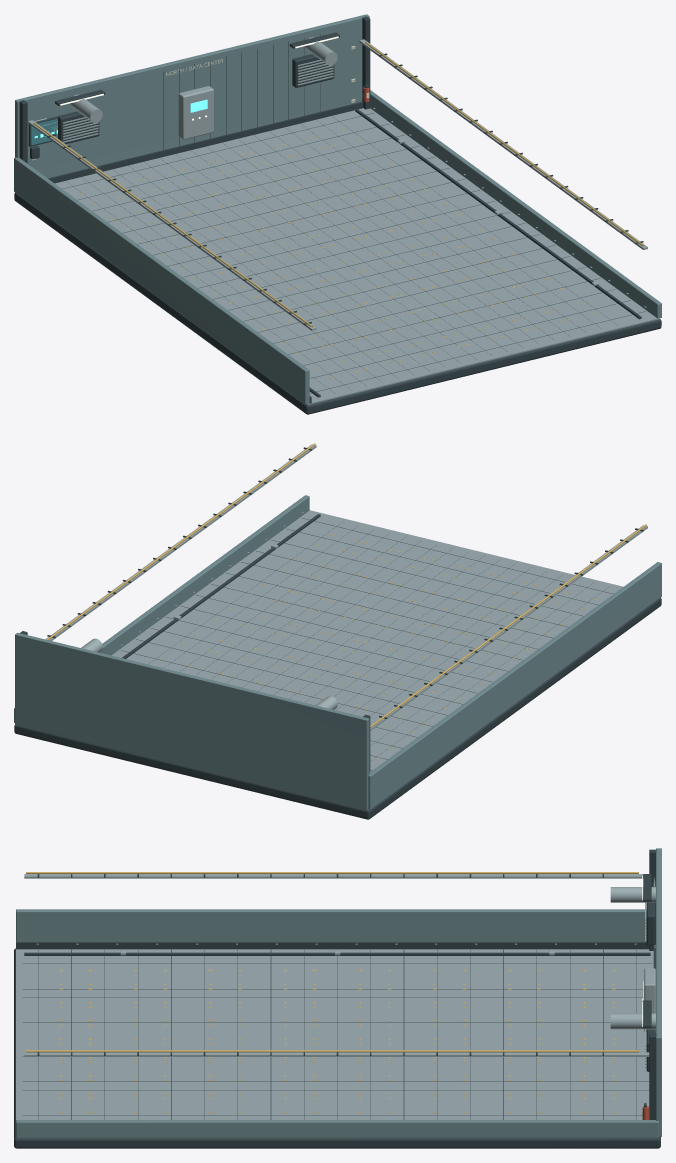
Rendered from dc-north.glb.
3 views of the same model, one above another, from view 1: azimuth 30°, elevation 25°; view 2: azimuth 150°, elevation 25°; view 3: azimuth 270°, elevation 25° (orthographic). The views are drawn at different scales.
Visible parts, largest first — view 1: SM_dc_north_01_mineral_floor, SM_dc_north_02_painted_plaster, SM_dc_north_03_charcoal_steel, SM_dc_north_04_brushed_alloy, SM_dc_north_11_safety_paint; view 2: SM_dc_north_01_mineral_floor, SM_dc_north_02_painted_plaster, SM_dc_north_03_charcoal_steel, SM_dc_north_04_brushed_alloy, SM_dc_north_11_safety_paint; view 3: SM_dc_north_01_mineral_floor, SM_dc_north_02_painted_plaster, SM_dc_north_03_charcoal_steel, SM_dc_north_04_brushed_alloy, SM_dc_north_11_safety_paint.
Boxes of the visible parts, <box> form: SM_dc_north_01_mineral_floor: <box>55,108,659,404</box>; SM_dc_north_02_painted_plaster: <box>14,14,661,404</box>; SM_dc_north_03_charcoal_steel: <box>14,16,661,414</box>; SM_dc_north_04_brushed_alloy: <box>27,37,647,330</box>; SM_dc_north_11_safety_paint: <box>33,41,644,378</box>; SM_dc_north_01_mineral_floor: <box>111,510,623,809</box>; SM_dc_north_02_painted_plaster: <box>14,495,661,809</box>; SM_dc_north_03_charcoal_steel: <box>14,447,661,819</box>; SM_dc_north_04_brushed_alloy: <box>45,444,647,730</box>; SM_dc_north_11_safety_paint: <box>46,443,646,758</box>; SM_dc_north_01_mineral_floor: <box>16,949,653,1119</box>; SM_dc_north_02_painted_plaster: <box>16,848,661,1137</box>; SM_dc_north_03_charcoal_steel: <box>14,849,660,1148</box>; SM_dc_north_04_brushed_alloy: <box>24,874,655,1067</box>; SM_dc_north_11_safety_paint: <box>26,872,638,1113</box>.
Size of the model in its own units: 13.68 by 3.68 by 19.5.
